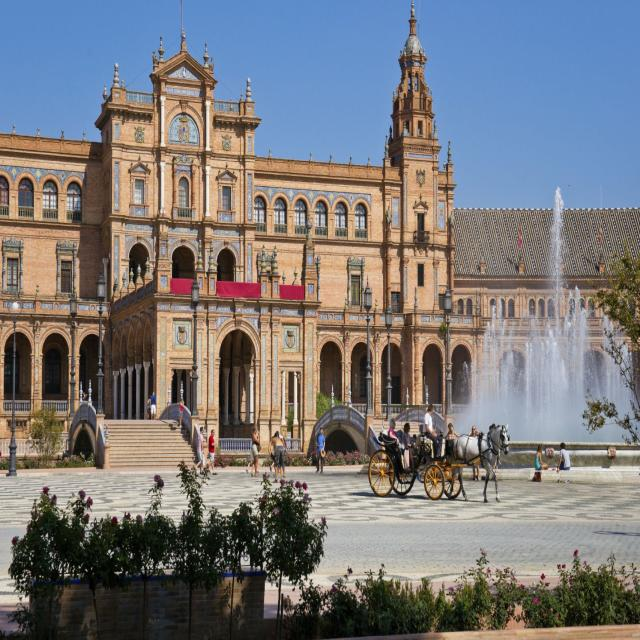body: (386, 418, 412, 472), (420, 403, 440, 462), (267, 435, 285, 484), (273, 431, 287, 478), (402, 422, 415, 472), (469, 424, 480, 482), (245, 432, 260, 474), (205, 428, 218, 476), (193, 426, 206, 474), (314, 426, 326, 475), (249, 426, 260, 476), (556, 441, 571, 473), (532, 443, 549, 471), (445, 422, 459, 440), (150, 390, 158, 420), (178, 397, 184, 428), (146, 395, 152, 421), (81, 391, 87, 408), (492, 461, 500, 471), (489, 423, 496, 431), (271, 432, 280, 438)
